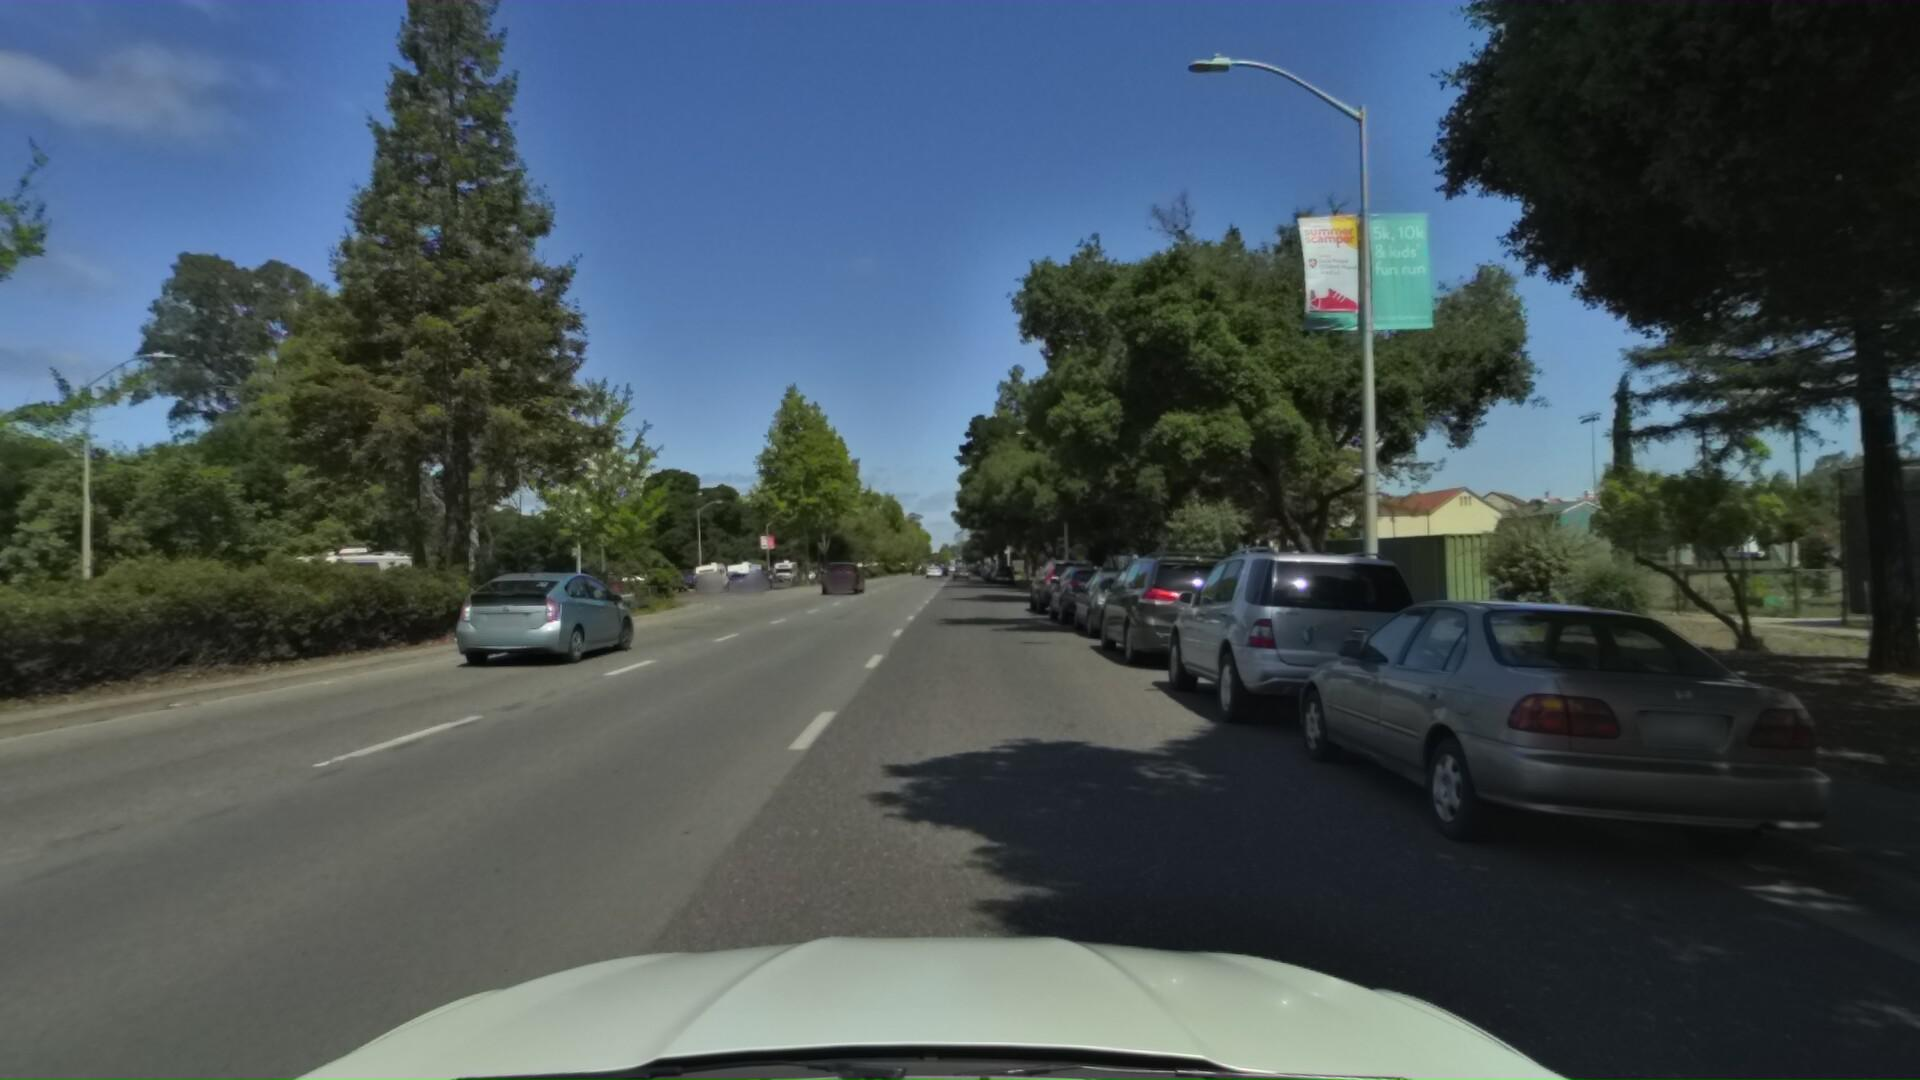car: (1290, 578, 1920, 967), (1156, 526, 1487, 754), (1092, 538, 1292, 684), (452, 566, 650, 676), (1068, 556, 1183, 647), (1044, 553, 1139, 632), (1027, 549, 1108, 615), (819, 556, 865, 596), (740, 571, 773, 593), (993, 556, 1015, 578)
other_vehicle: (257, 537, 421, 626)
